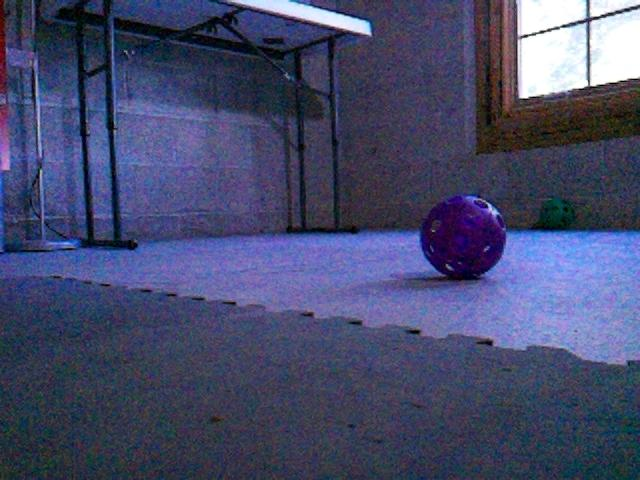Green: (534, 196, 576, 230)
Purple: (418, 193, 506, 280)
